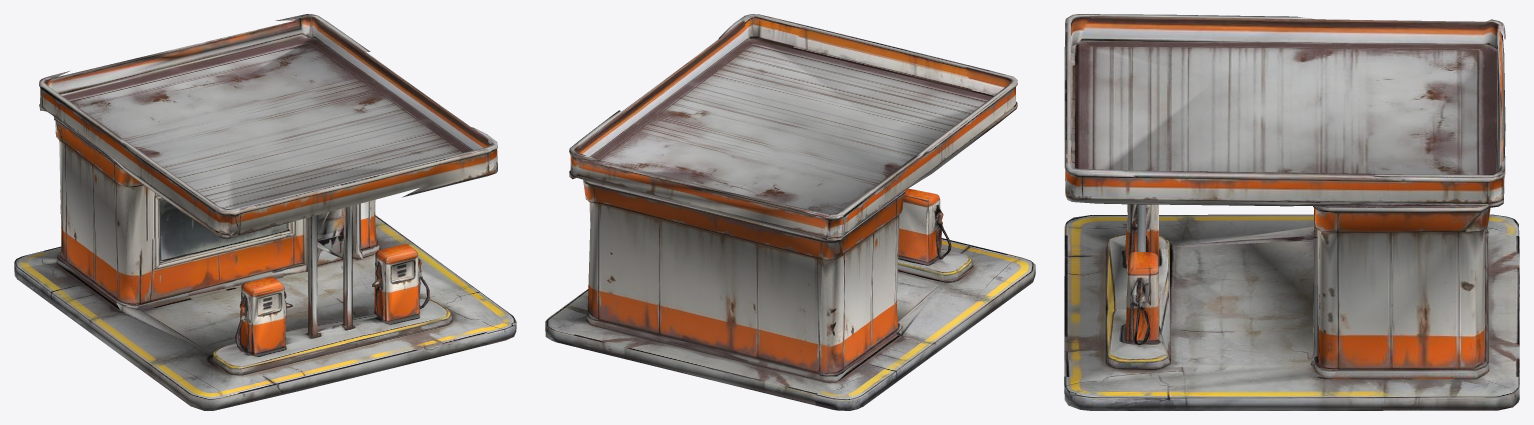
Rendered from gas_station.glb.
The picture shows the model from 3 angles, left to right: view 1: azimuth 30°, elevation 25°; view 2: azimuth 150°, elevation 25°; view 3: azimuth 270°, elevation 25°; orthographic projection. The views are drawn at different scales.
Parts seen in each view (by area): view 1: Mesh_0; view 2: Mesh_0; view 3: Mesh_0.
Part boxes in pixels (<box>): Mesh_0: <box>14,14,516,410</box>; Mesh_0: <box>545,14,1035,410</box>; Mesh_0: <box>1064,14,1519,410</box>.
Bounding box in the file's own units: 1.81 × 1.04 × 1.9.
Materials: 1 (1 with a texture image).
